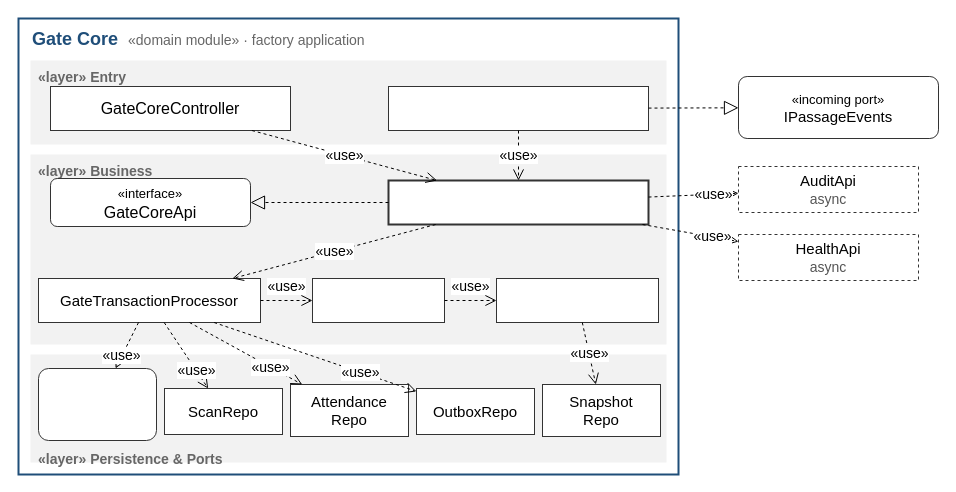
This 956x492 diagram has some shape labels left out. Here are the shapes that lost their labels. From the top down, the box of each, then its label:
(388, 86, 648, 130): ControllerSignalHandler
(387, 179, 649, 225): GateCoreFacade
(312, 278, 444, 322): AccessDecision
(496, 278, 658, 322): EligibilitySnapshot
(38, 368, 156, 440): «command ports» IOpenGate ICloseGate IEmergencyGate
